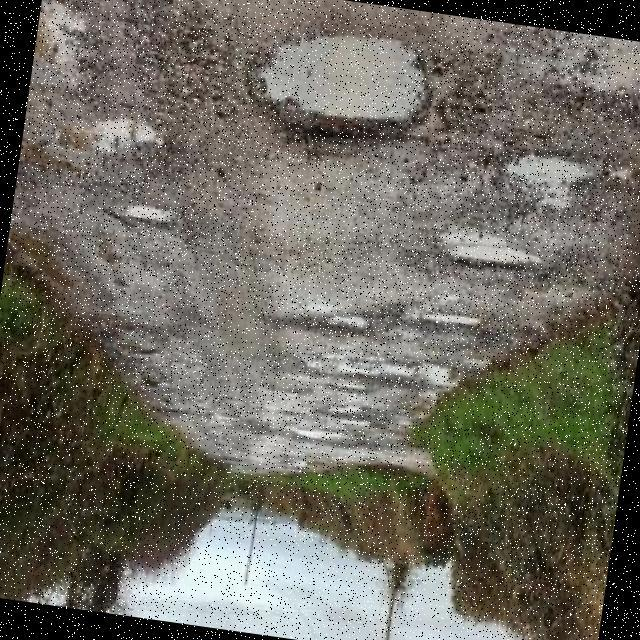Pothole: (252, 33, 436, 132), (572, 35, 640, 93), (445, 234, 541, 265), (508, 157, 591, 185), (82, 118, 154, 148)
